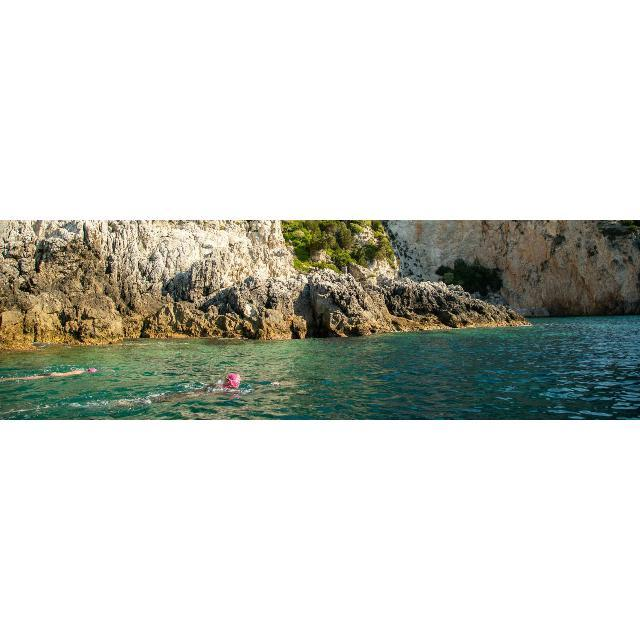human: (1, 366, 99, 384), (207, 372, 246, 394)
